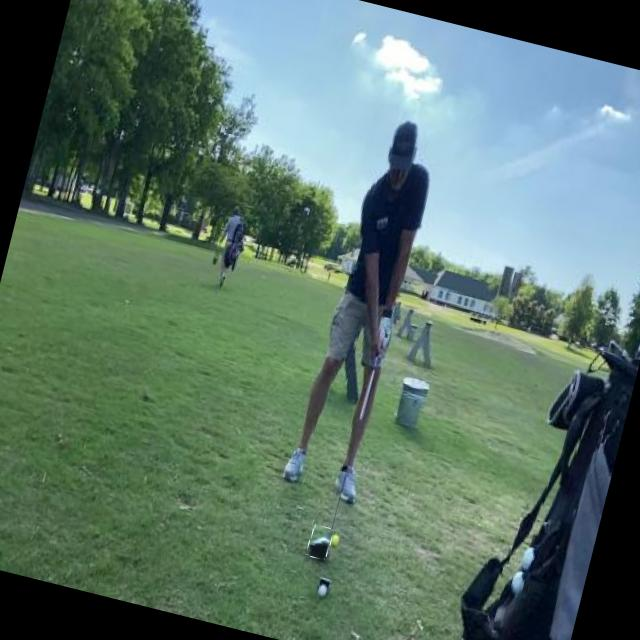club head: (304, 524, 334, 560)
